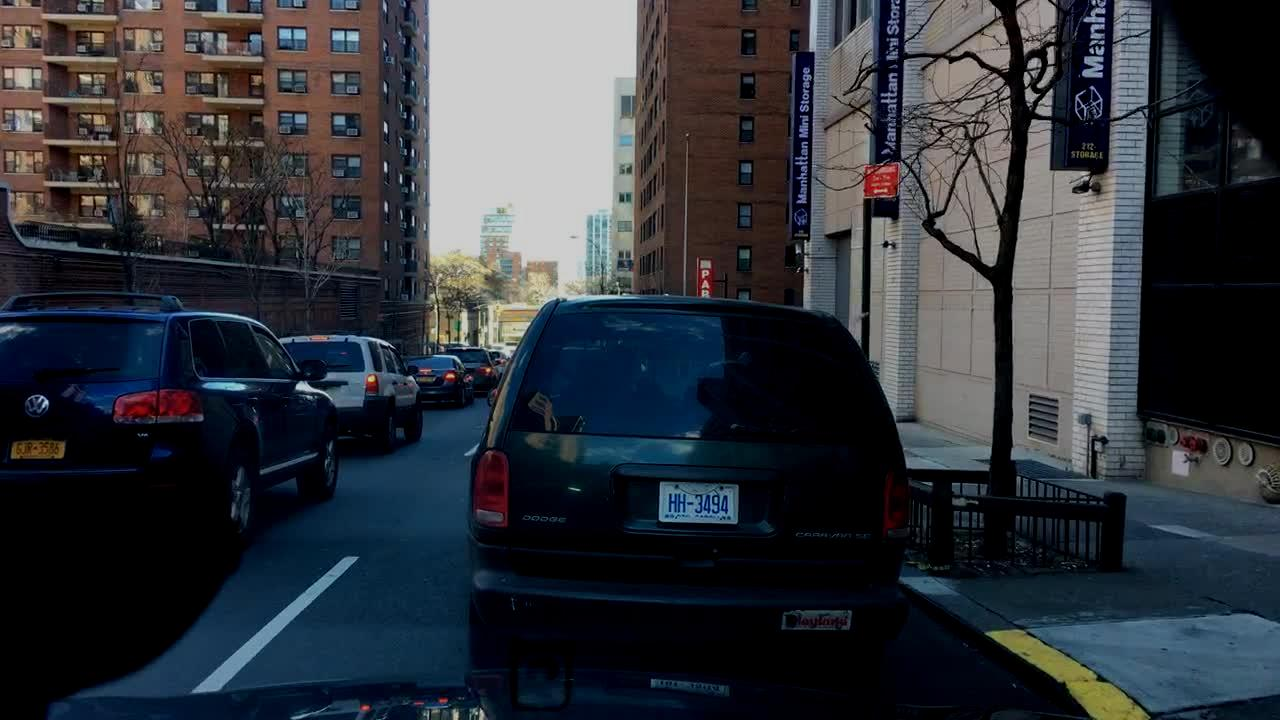Volkswagen: (20, 388, 56, 422)
dodge: (517, 512, 575, 531)
